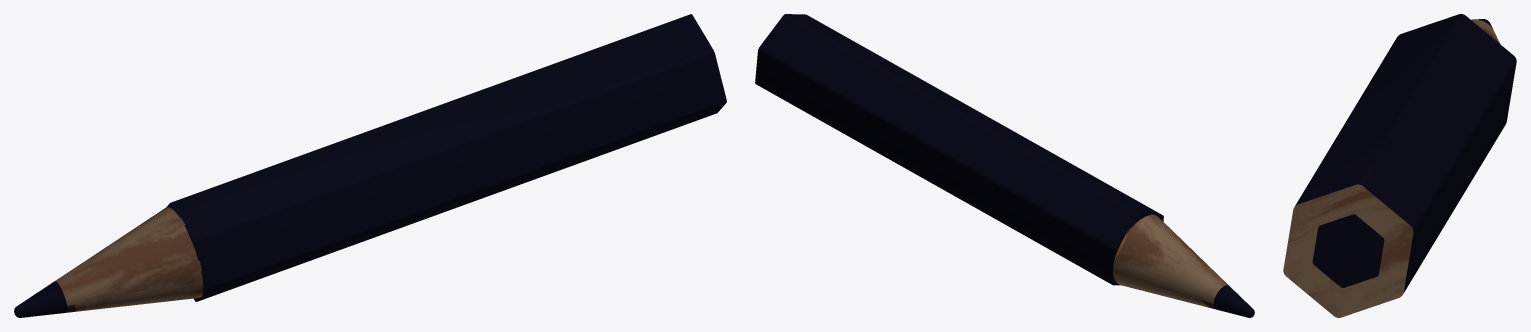
3 renders of one model, left to right at view 1: azimuth 30°, elevation 25°; view 2: azimuth 150°, elevation 25°; view 3: azimuth 270°, elevation 25°, orthographic. The views are drawn at different scales.
Visible parts, largest first — view 1: Da Pencil.005; view 2: Da Pencil.005; view 3: Da Pencil.005.
Boxes of the visible parts, box(x1,y1,x2,y2) form: Da Pencil.005: box(14, 14, 726, 317); Da Pencil.005: box(755, 14, 1254, 317); Da Pencil.005: box(1283, 14, 1516, 317).
Size of the model in its own units: 0.5 by 0.1458 by 0.1222.
2 materials, 1 textured.
